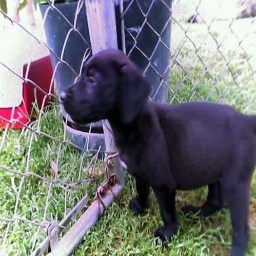dog: (57, 48, 254, 251)
